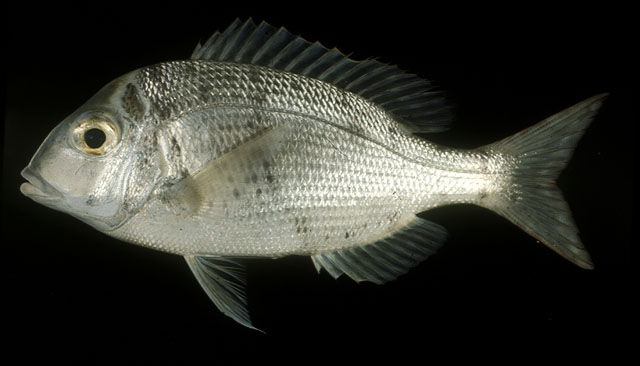fish: (19, 17, 612, 334)
